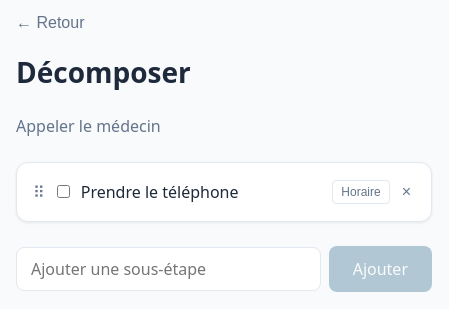
Scenario: E23Decompose › supprime une sous-étape et recharge la liste
This screenshot has width=449, height=309.
Expected: the text "Prendre le téléphone" is shown, x1=81 y1=181 x2=238 y2=203
Click the button named "Supprimer Prendre le téléphone".
click(406, 192)  # box x1=398 y1=179 x2=415 y2=205
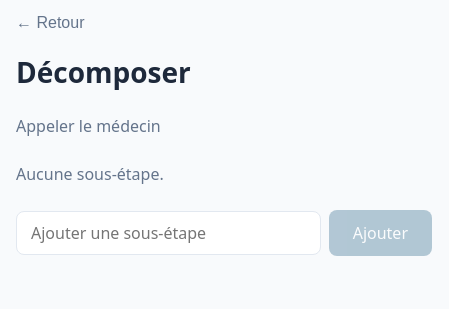
Now the button "Prendre le téléphone" is gone
